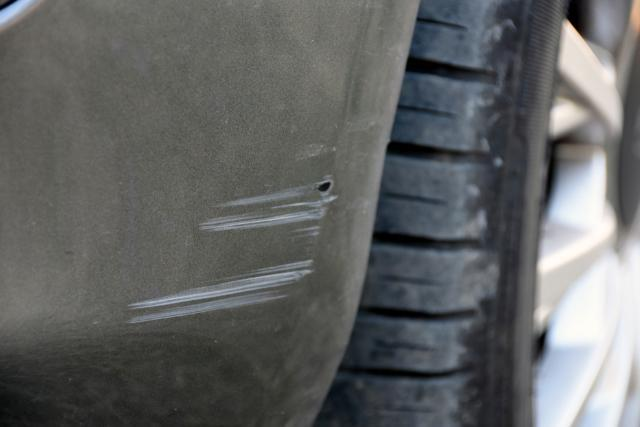Bumper: (48, 59, 400, 391)
